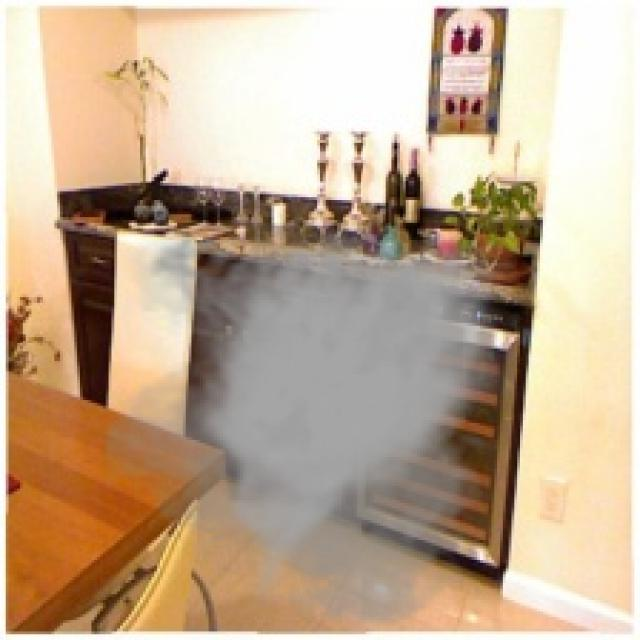smoke: (103, 220, 517, 631)
